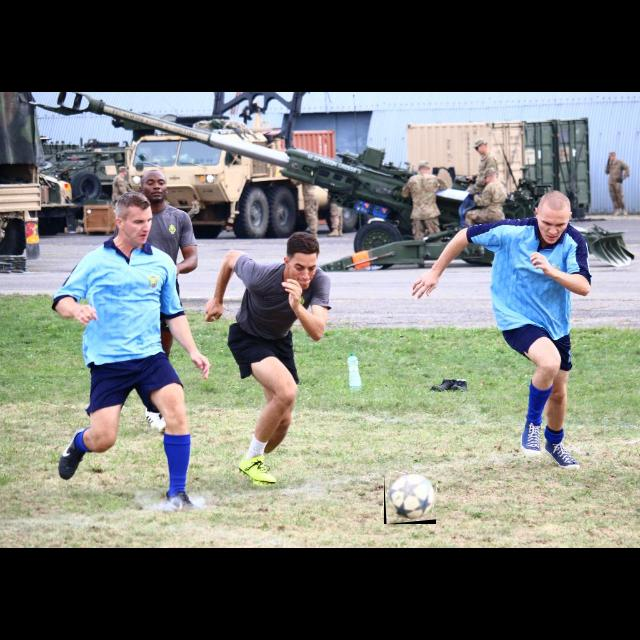Football: (384, 474, 436, 524)
